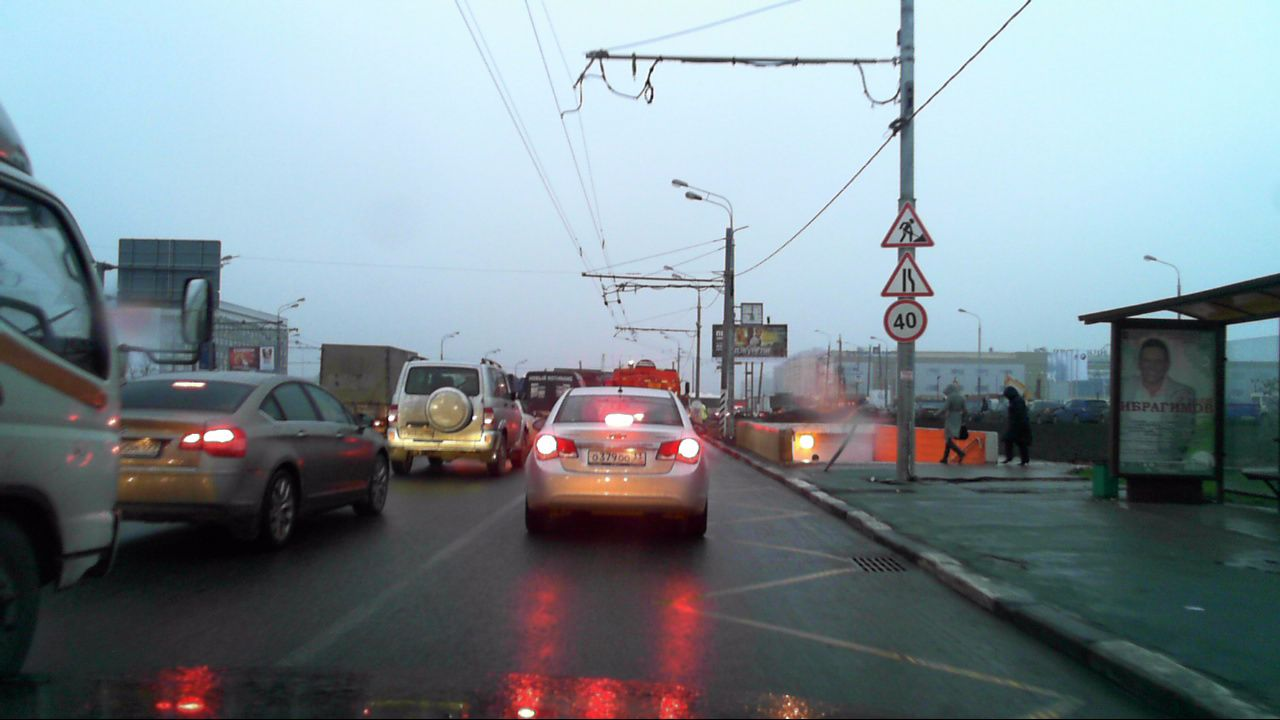speed_warning_40: (884, 301, 926, 341)
